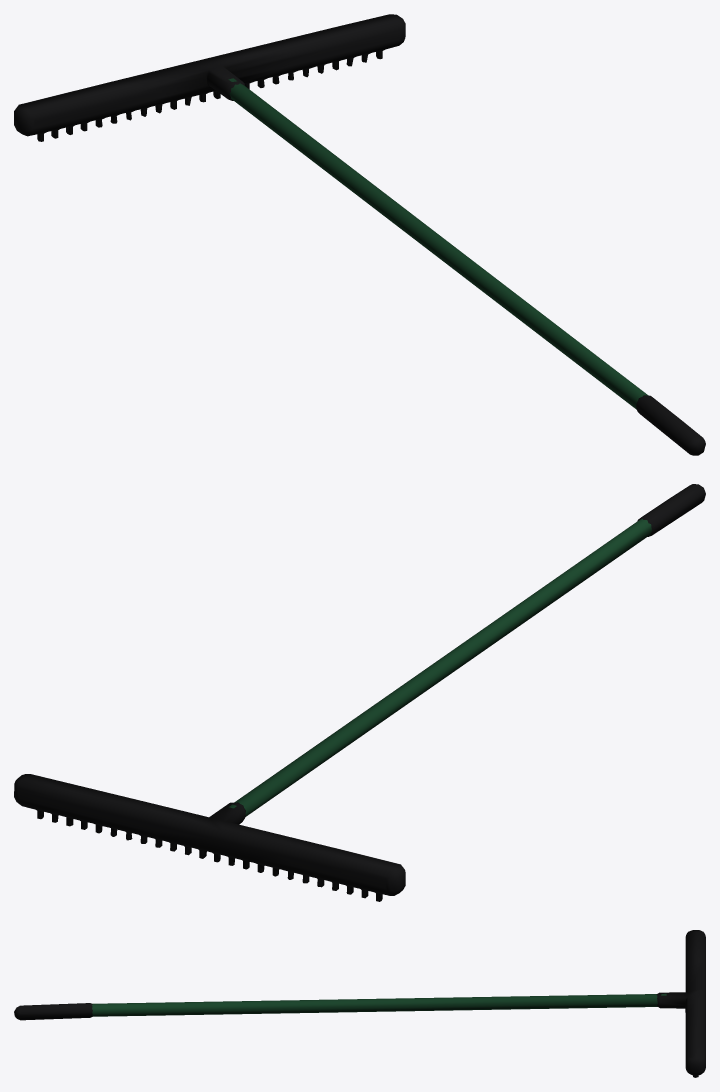
Rendered from bunker_rake.glb.
The picture shows the model from 3 angles, top to bottom: view 1: azimuth 30°, elevation 25°; view 2: azimuth 150°, elevation 25°; view 3: azimuth 270°, elevation 25°; orthographic projection. The views are drawn at different scales.
Parts seen in each view (by area): view 1: bunker_rake; view 2: bunker_rake; view 3: bunker_rake.
Part boxes in pixels (<box>): bunker_rake: <box>14,14,705,455</box>; bunker_rake: <box>14,484,705,901</box>; bunker_rake: <box>14,930,705,1077</box>.
Bounding box in the file's own units: 0.6386 × 0.058 × 1.43.
